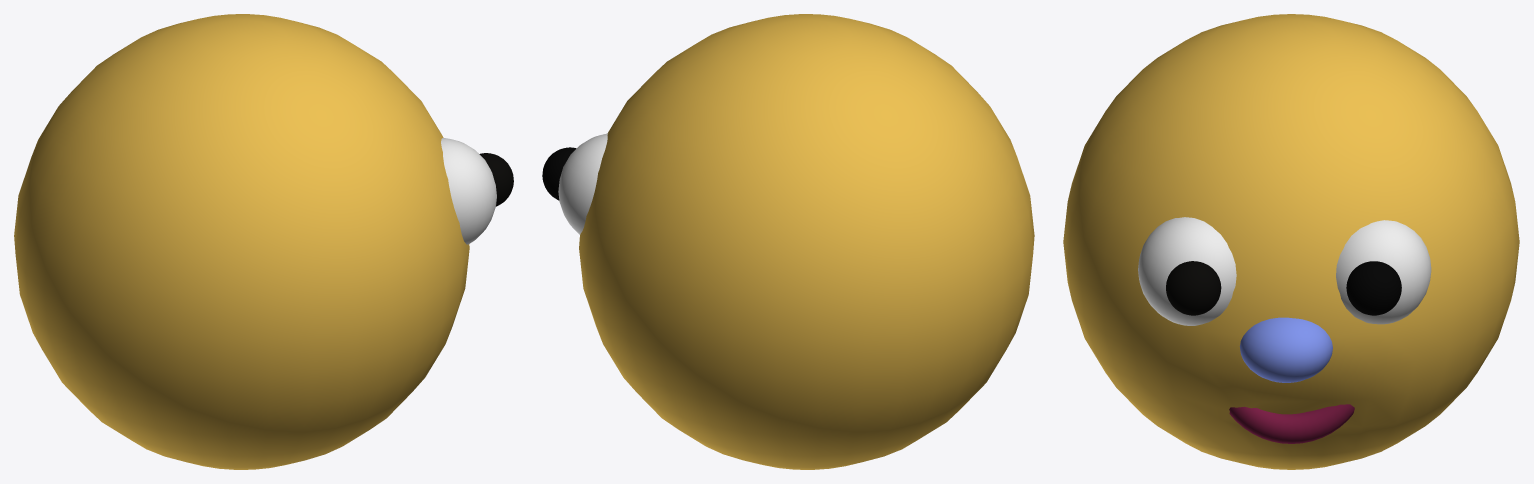
File: hero.glb
The picture shows the model from 3 angles, left to right: view 1: azimuth 30°, elevation 25°; view 2: azimuth 150°, elevation 25°; view 3: azimuth 270°, elevation 25°; orthographic projection.
Visible parts, largest first — view 1: Сфера, Сфера.001, Сфера.004; view 2: Сфера, Сфера.002, Сфера.003; view 3: Сфера, Сфера.001, Сфера.002, Сфера.005, Тор, Сфера.003, Сфера.004.
Boxes of the visible parts, x1,y1,x2,y2 form: Сфера: [14, 14, 469, 469]; Сфера.001: [441, 138, 496, 244]; Сфера.004: [479, 153, 513, 206]; Сфера: [579, 14, 1034, 469]; Сфера.002: [558, 133, 607, 234]; Сфера.003: [542, 147, 576, 200]; Сфера: [1063, 14, 1519, 469]; Сфера.001: [1138, 217, 1236, 325]; Сфера.002: [1336, 220, 1431, 324]; Сфера.005: [1239, 317, 1332, 382]; Тор: [1229, 404, 1354, 443]; Сфера.003: [1346, 261, 1401, 315]; Сфера.004: [1166, 261, 1221, 315].
Size of the model in its own units: 2.52 by 2.34 by 2.34.
